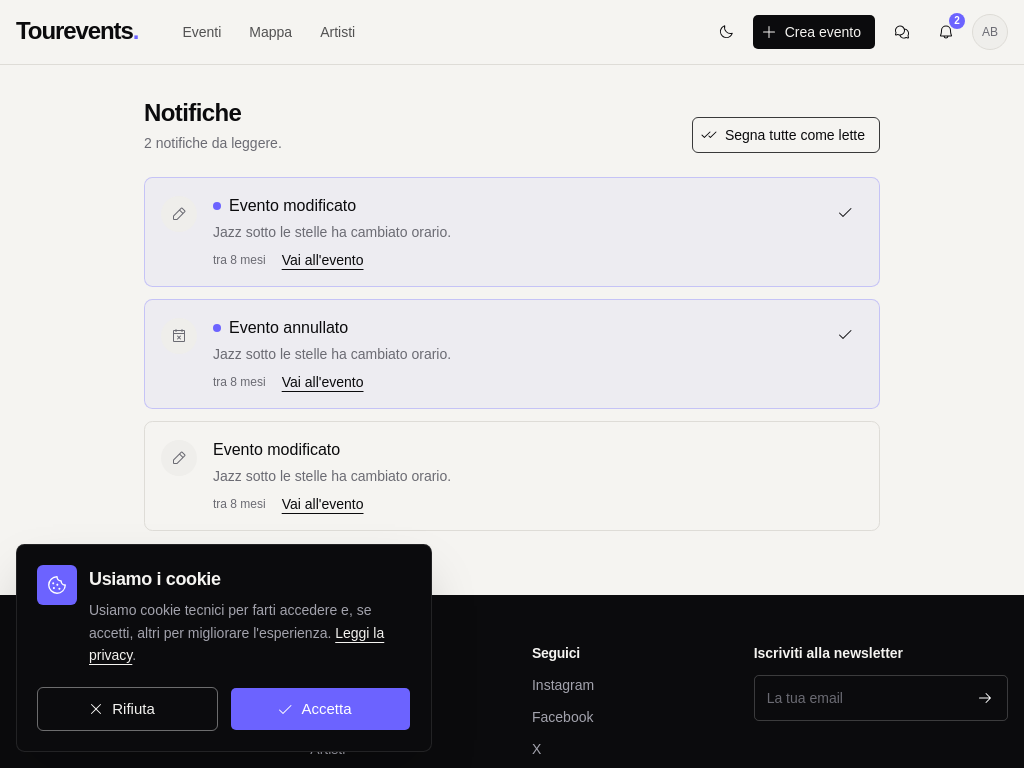
Test: NotificationsPage › "Segna tutte come lette" segna le non lette della pagina
The width and height of the screenshot is (1024, 768).
Click the button "Segna tutte come lette" at (786,135), box [692,117,880,153]
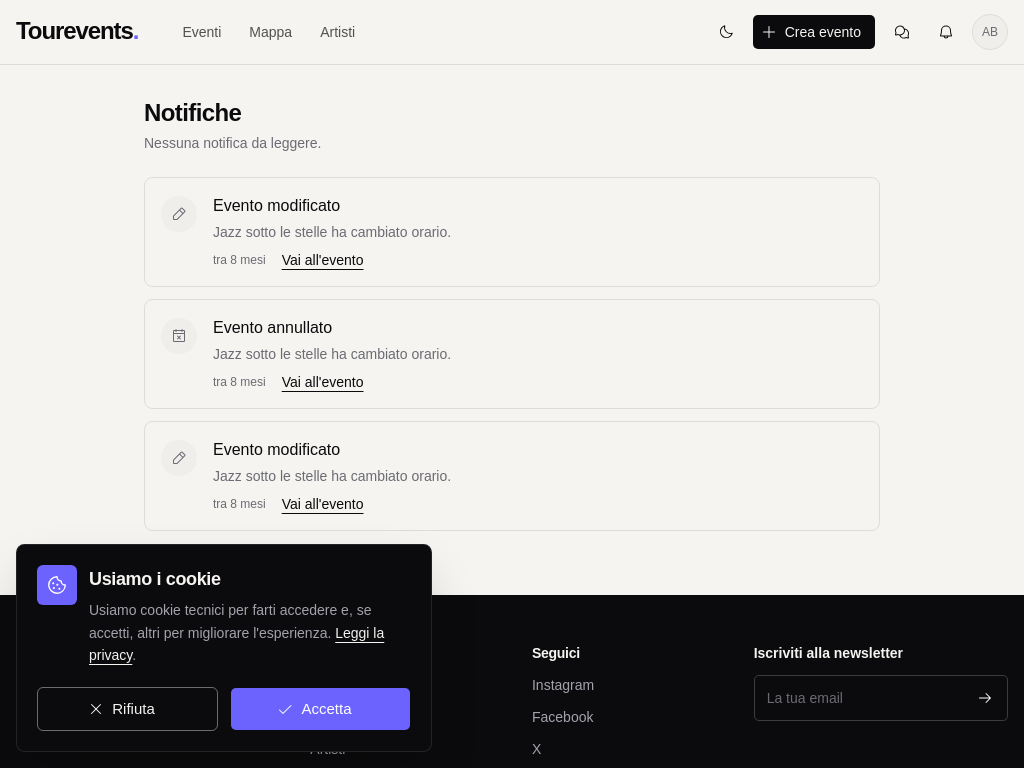
Expected: the button "Segna tutte come lette" is gone
